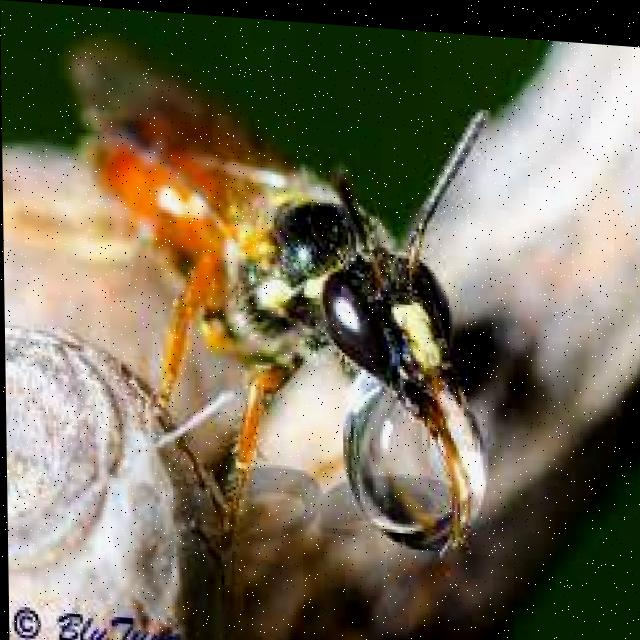Allodapula: (53, 20, 532, 562)
